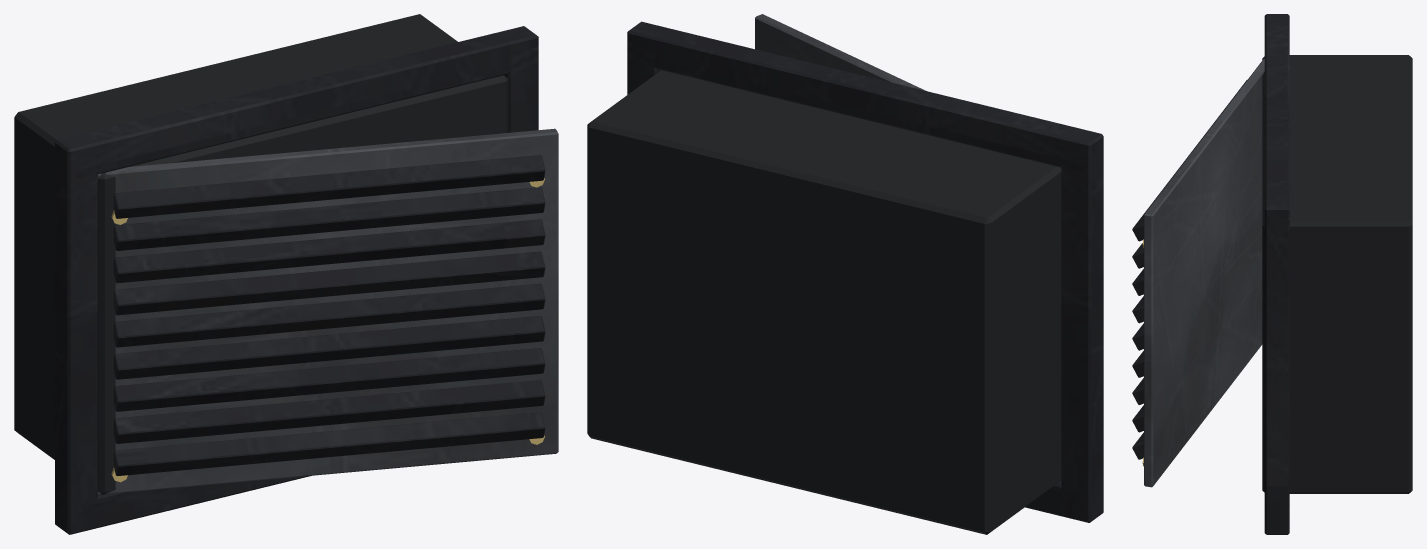
The model's file is vent_wall.glb.
The picture shows the model from 3 angles, left to right: view 1: azimuth 30°, elevation 25°; view 2: azimuth 150°, elevation 25°; view 3: azimuth 270°, elevation 25°; orthographic projection. The views are drawn at different scales.
Parts seen in each view (by area): view 1: grille, body; view 2: body, grille; view 3: body, grille.
Part boxes in pixels (x1,y1,x2,y2): grille: [98, 128, 558, 494]; body: [14, 14, 538, 534]; body: [587, 21, 1103, 534]; grille: [755, 14, 925, 90]; body: [1262, 14, 1412, 534]; grille: [1132, 58, 1264, 487].
Bounding box in the file's own units: 0.92 × 0.72 × 0.559.
Materials: 4 (2 with a texture image).
